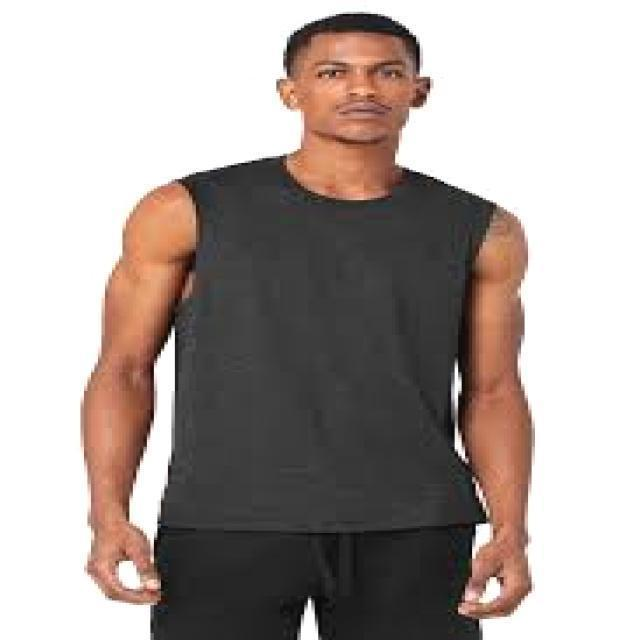no_vest: (158, 152, 500, 530)
